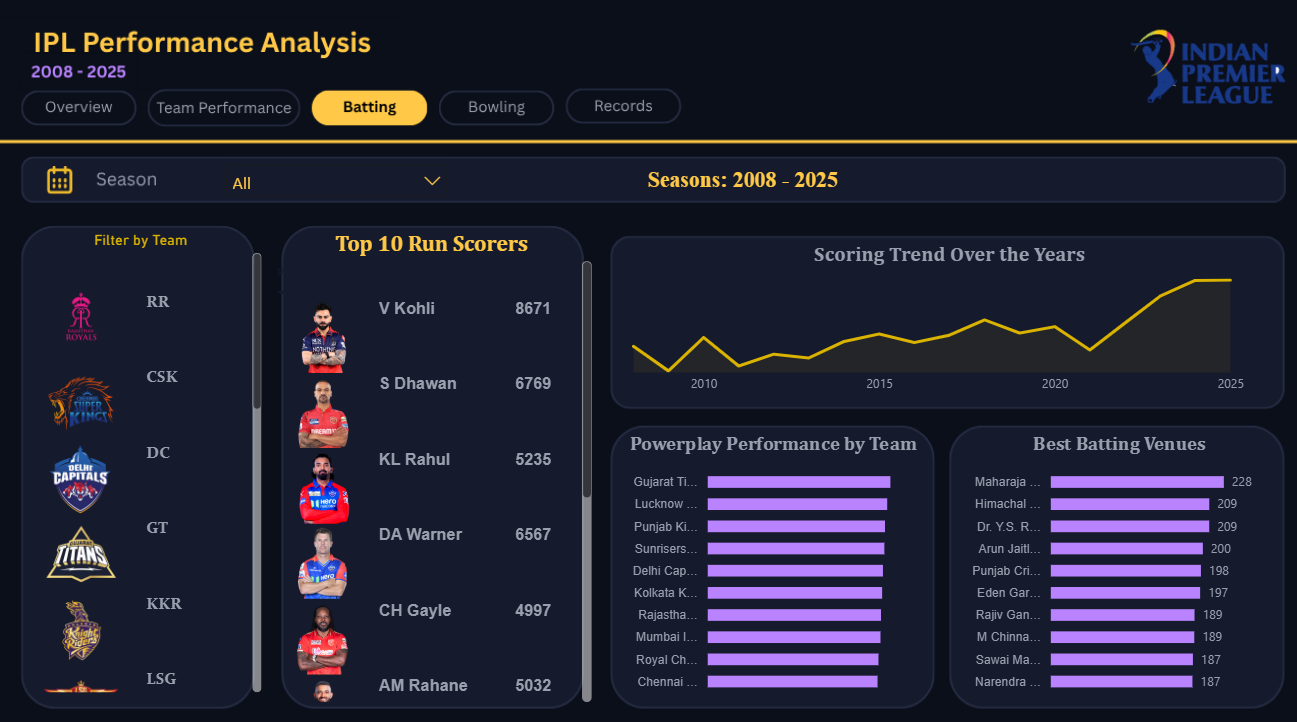

What the dashboard file says about the page in this screenshot:
{"tool":"powerbi","page":{"name":"Batting","canvas":[1280,720],"ordinal":2},"visuals":[{"type":"tableEx","title":"Top 10 Run Scorers","fields":{"Values":["ipl_players_clean.player_image","ipl_players_clean.player_name","_Measures.Total Runs by Player"]},"box":[267.5,230.7,314.1,462.6],"z":0},{"type":"clusteredBarChart","title":"Best Batting Venues","fields":{"Category":["ipl_matches_clean.venue"],"Y":["_Measures.Avg Score Per Venue"]},"box":[938.7,428.2,322.5,264.8],"z":1000},{"type":"clusteredBarChart","title":"Powerplay Performance by Team","fields":{"Y":["_Measures.Avg Powerplay Runs"],"Category":["ipl_deliveries_clean.team_batting"]},"box":[604.9,428.2,310.1,264.8],"z":2000},{"type":"lineChart","title":"Scoring Trend Over the Years","fields":{"Y":["_Measures.Avg Score Per Season"],"Category":["ipl_matches_clean.season"]},"box":[604.9,240.5,656.4,158.3],"z":3000},{"type":"tableEx","title":"Filter by Team","fields":{"Values":["ipl_teams_clean.image_url","ipl_teams_clean.team_name_short"]},"box":[20.9,230.7,236.8,452.8],"z":4000},{"type":"cardVisual","fields":{"Data":["_Measures.Season Range"]},"box":[581.6,158.3,292,49.1],"z":5000},{"type":"image","box":[1108,28.2,158.3,81],"z":6000},{"type":"slicer","fields":{"Values":["ipl_matches_clean.season"]},"box":[218.4,161,225.8,39],"z":7000},{"type":"actionButton","box":[148.5,85.9,135,39.3],"z":8000},{"type":"actionButton","box":[27,89.6,105.5,36.8],"z":9000},{"type":"actionButton","box":[431.9,85.9,110.4,39.3],"z":10000},{"type":"actionButton","box":[557.1,85.9,110.4,39.3],"z":11000}]}

Visuals, with their boxes in screenshot pixels (x1, y1, x2, y2), scaled from the page's 1280x720 canvas onto the 1297x722 screenshot:
"Top 10 Run Scorers" tableEx: pyautogui.locateOnScreen(271, 231, 589, 695)
"Best Batting Venues" clusteredBarChart: pyautogui.locateOnScreen(951, 429, 1278, 695)
"Powerplay Performance by Team" clusteredBarChart: pyautogui.locateOnScreen(613, 429, 927, 695)
"Scoring Trend Over the Years" lineChart: pyautogui.locateOnScreen(613, 241, 1278, 400)
"Filter by Team" tableEx: pyautogui.locateOnScreen(21, 231, 261, 685)
cardVisual - _Measures.Season Range: pyautogui.locateOnScreen(589, 159, 885, 208)
image: pyautogui.locateOnScreen(1123, 28, 1283, 110)
slicer - ipl_matches_clean.season: pyautogui.locateOnScreen(221, 161, 450, 201)
actionButton: pyautogui.locateOnScreen(150, 86, 287, 126)
actionButton: pyautogui.locateOnScreen(27, 90, 134, 127)
actionButton: pyautogui.locateOnScreen(438, 86, 550, 126)
actionButton: pyautogui.locateOnScreen(564, 86, 676, 126)
